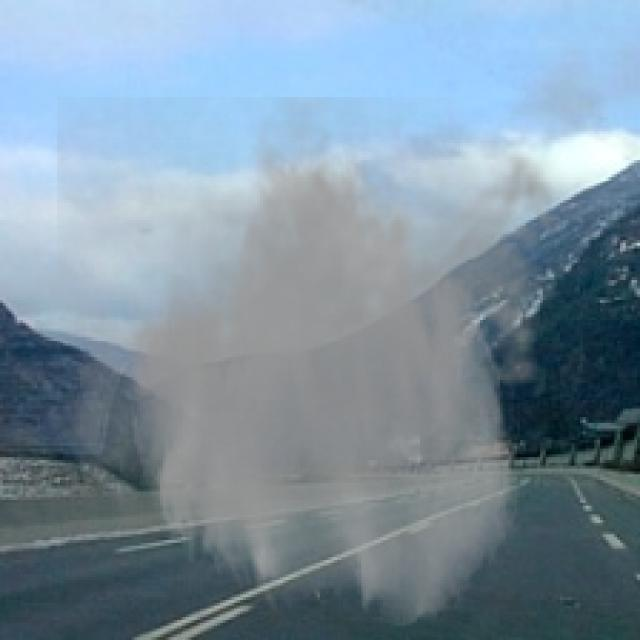smoke: (57, 97, 574, 632)
